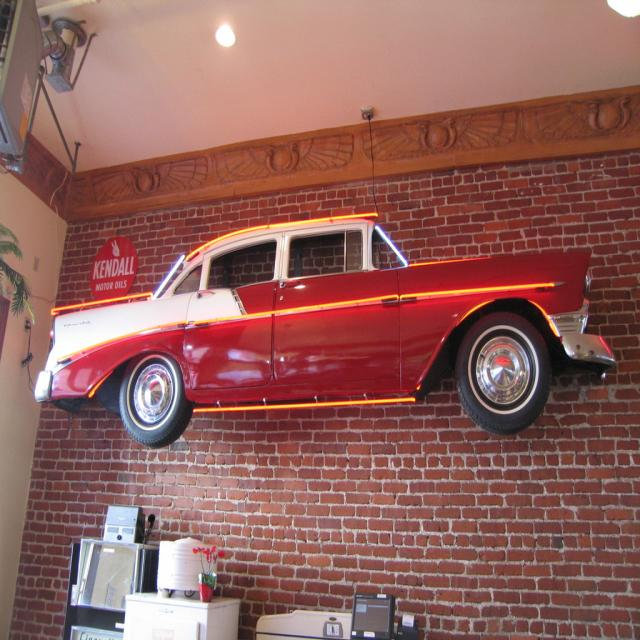car: (20, 209, 614, 463)
